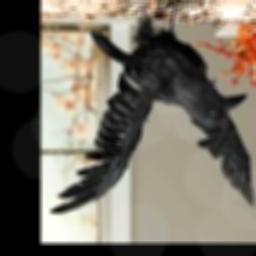Crow: (48, 3, 256, 215)
